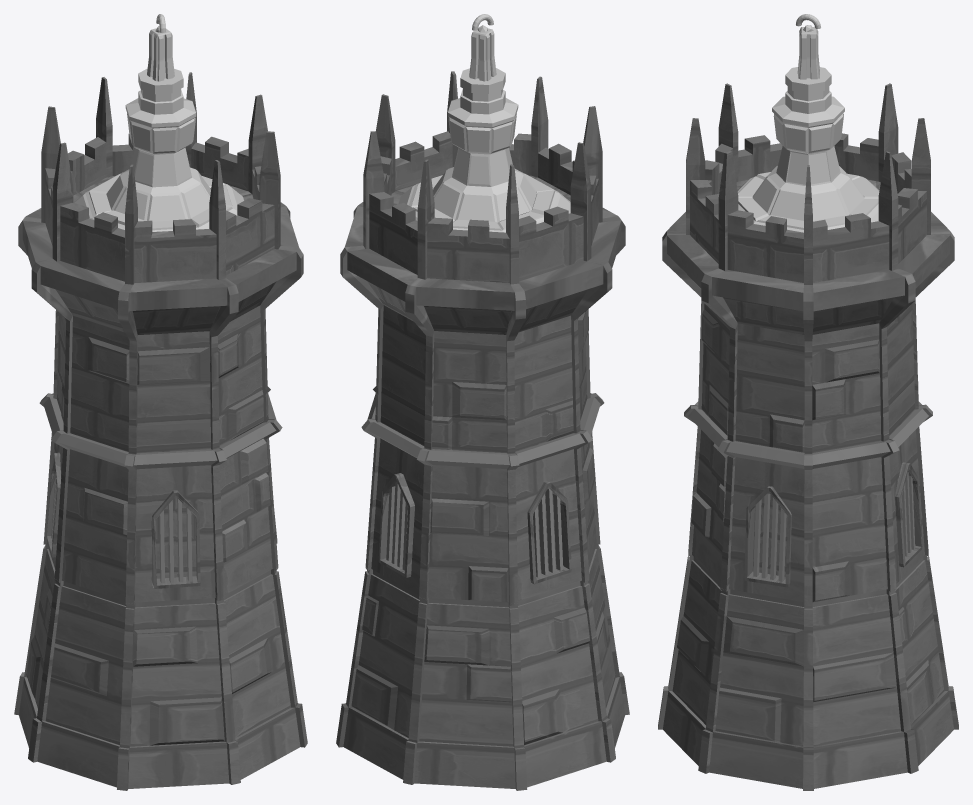
File: att3-speed.fbx
The picture shows the model from 3 angles, left to right: view 1: azimuth 30°, elevation 25°; view 2: azimuth 150°, elevation 25°; view 3: azimuth 270°, elevation 25°; orthographic projection.
Parts seen in each view (by area): view 1: polySurface52; view 2: polySurface52; view 3: polySurface52.
Part boxes in pixels (x1,y1,x2,y2): polySurface52: (14,14,307,790); polySurface52: (336,14,629,790); polySurface52: (658,14,958,790).
Size of the model in its own units: 13.87 by 36.26 by 13.87.
